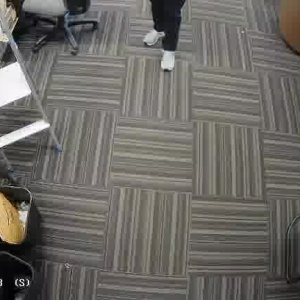person: (142, 0, 193, 75)
